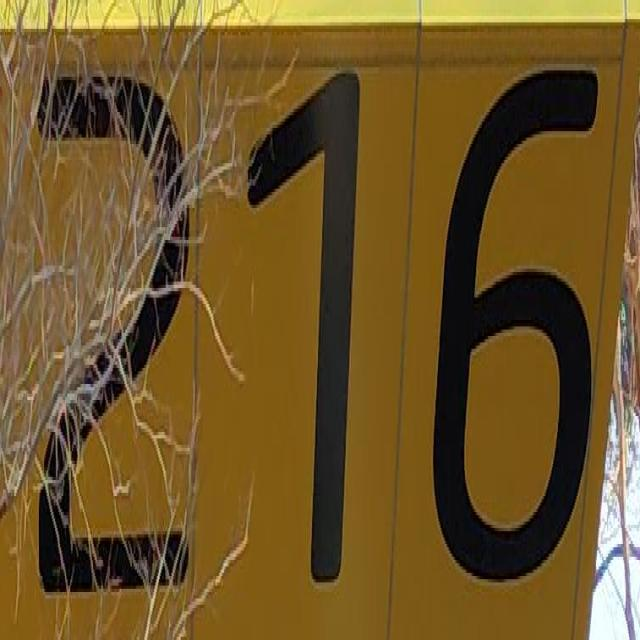character: (430, 57, 603, 593), (32, 49, 194, 608), (246, 52, 363, 603)
